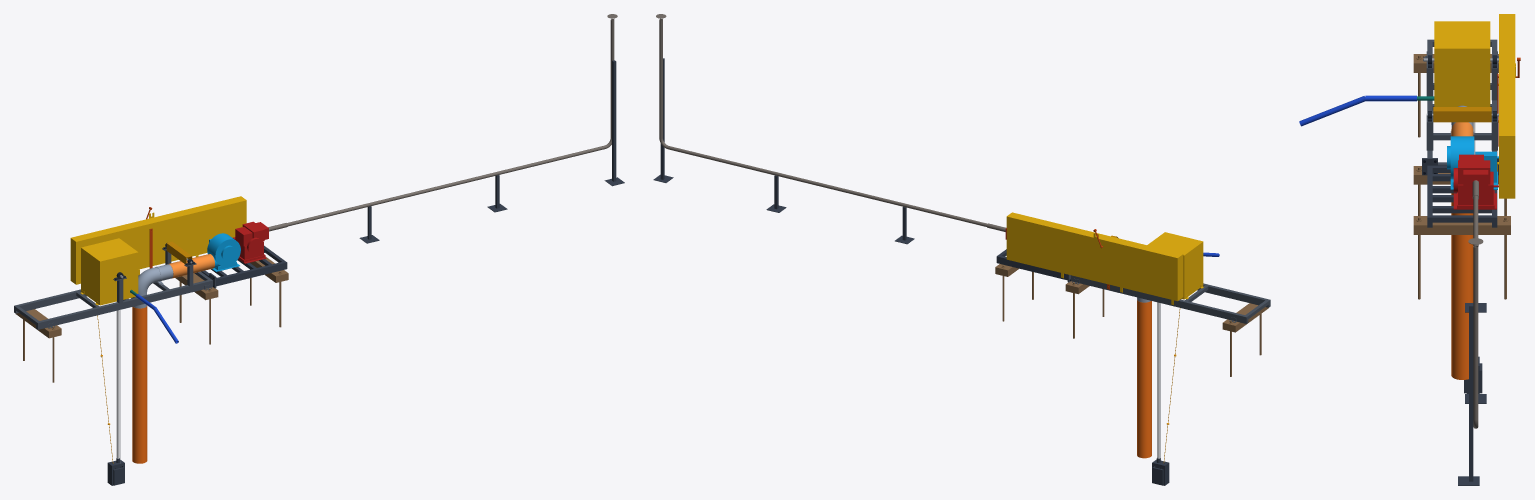
The picture shows the model from 3 angles, left to right: view 1: azimuth 30°, elevation 25°; view 2: azimuth 150°, elevation 25°; view 3: azimuth 270°, elevation 25°; orthographic projection. The views are drawn at different scales.
Visible parts, largest first — view 1: Belt guard, Pump wheel hood, Span module with pedestals and cleats, Lay-flat duct (drawn shortened), Exhaust extension, Sleepers, stakes and coach screws, Exhaust stands, Engine and engine plate, Drive module, Blower, plate and inlet guard, Duct head and saddle; view 2: Belt guard, Lay-flat duct (drawn shortened), Span module with pedestals and cleats, Exhaust extension, Pump wheel hood, Sleepers, stakes and coach screws, Exhaust stands; view 3: Pump wheel hood, Belt guard, Lay-flat duct (drawn shortened), Sleepers, stakes and coach screws, Drive module, Engine and engine plate, Span module with pedestals and cleats, Exhaust extension, Exhaust stands, Blower, plate and inlet guard, Layshaft cover, Discharge hose (+1 smaller).
Part boxes in pixels (x1,y1,x2,y2): Belt guard: (70, 196, 246, 284); Pump wheel hood: (80, 238, 138, 305); Span module with pedestals and cleats: (14, 248, 215, 329); Lay-flat duct (drawn shortened): (132, 305, 147, 463); Exhaust extension: (268, 14, 617, 231); Sleepers, stakes and coach screws: (16, 257, 288, 382); Exhaust stands: (359, 60, 624, 243); Engine and engine plate: (233, 221, 268, 263); Drive module: (201, 245, 287, 287); Blower, plate and inlet guard: (207, 233, 240, 271); Duct head and saddle: (133, 264, 173, 308); Belt guard: (1006, 212, 1183, 304); Lay-flat duct (drawn shortened): (1137, 300, 1151, 458); Span module with pedestals and cleats: (1068, 274, 1270, 323); Exhaust extension: (656, 14, 1006, 231); Pump wheel hood: (1147, 232, 1203, 299); Sleepers, stakes and coach screws: (995, 264, 1268, 376); Exhaust stands: (653, 58, 914, 244); Pump wheel hood: (1434, 21, 1490, 106); Belt guard: (1497, 14, 1515, 198); Lay-flat duct (drawn shortened): (1451, 193, 1473, 379); Sleepers, stakes and coach screws: (1413, 54, 1510, 299); Drive module: (1422, 158, 1498, 227); Engine and engine plate: (1453, 154, 1498, 209); Span module with pedestals and cleats: (1422, 39, 1498, 165); Exhaust extension: (1468, 180, 1483, 428); Exhaust stands: (1458, 303, 1486, 485); Blower, plate and inlet guard: (1447, 136, 1498, 189); Layshaft cover: (1433, 107, 1491, 122); Discharge hose: (1299, 95, 1416, 126).
Bounding box in the file's own units: 9.35 × 5.15 × 2.05.
